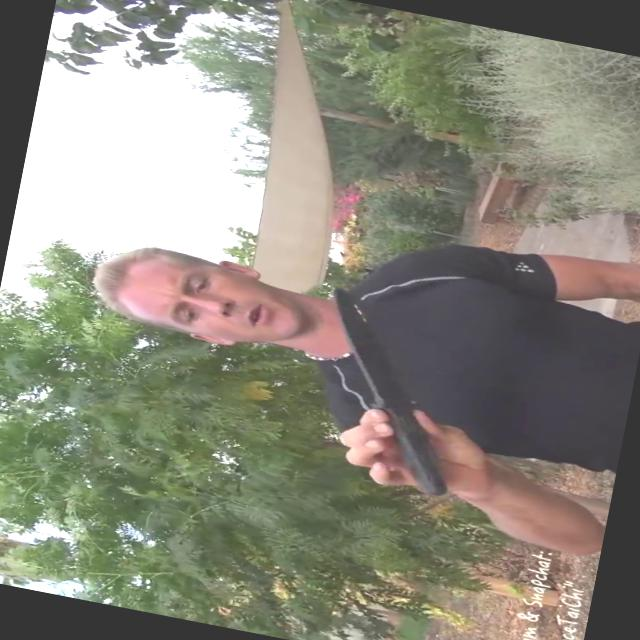knife: (274, 263, 501, 525)
